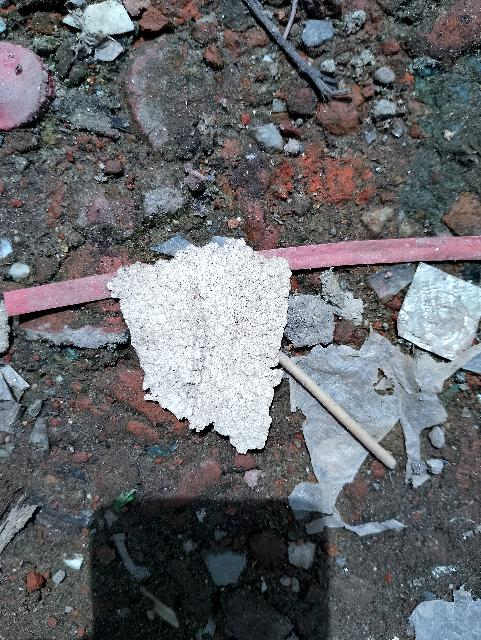cocksheet: (98, 230, 286, 456)
